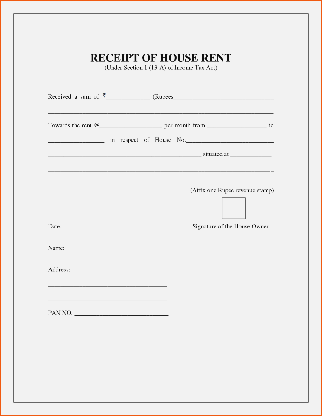textbox: (221, 195, 246, 221)
textline: (46, 162, 276, 175), (48, 106, 276, 116), (48, 149, 202, 159), (74, 306, 171, 321), (46, 294, 169, 304), (47, 279, 169, 289), (71, 263, 170, 274), (186, 133, 274, 145), (176, 92, 276, 102), (101, 118, 162, 132), (207, 118, 268, 132), (106, 90, 149, 103), (47, 135, 105, 144), (229, 150, 272, 159)
